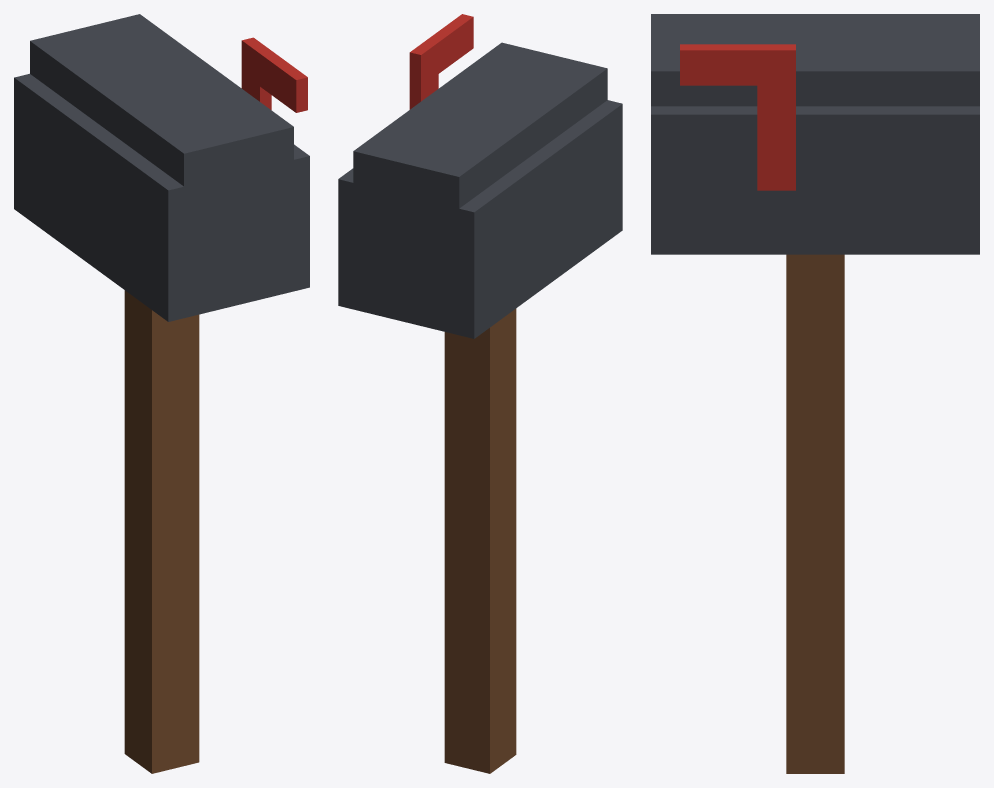
Rendered from mod-caixa-correio.gltf.
The picture shows the model from 3 angles, left to right: view 1: azimuth 30°, elevation 25°; view 2: azimuth 150°, elevation 25°; view 3: azimuth 270°, elevation 25°; orthographic projection. The views are drawn at different scales.
Parts seen in each view (by area): view 1: mod-caixa-correio; view 2: mod-caixa-correio; view 3: mod-caixa-correio.
Boxes of the visible parts, <box> form: mod-caixa-correio: <box>14,14,309,773</box>; mod-caixa-correio: <box>338,14,622,773</box>; mod-caixa-correio: <box>651,14,979,773</box>.
Size of the model in its own units: 0.195 by 0.86 by 0.34.
